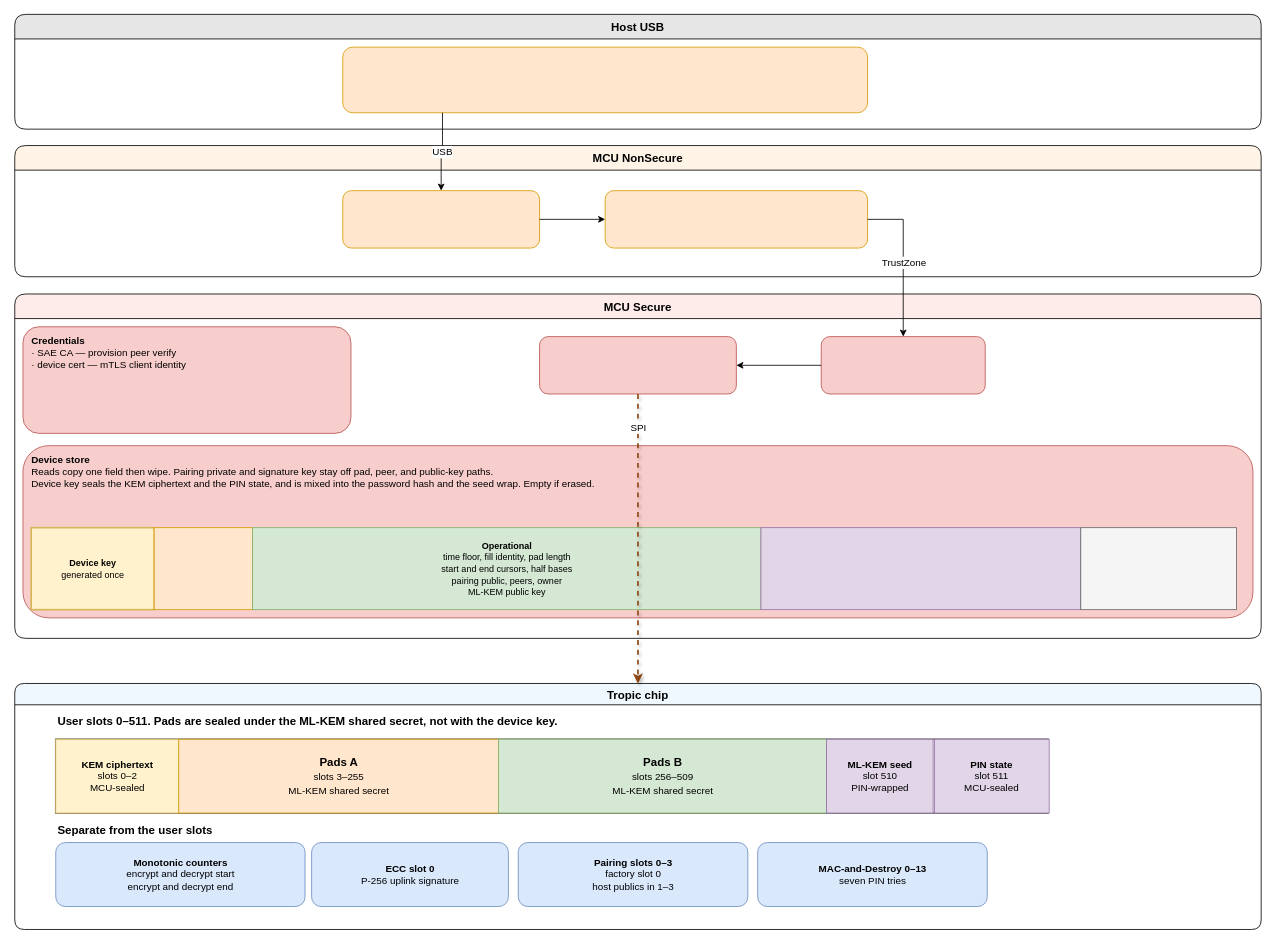
Some shapes in this 1275 by 944 pixel diagram are drawn without their labels. The centre of each missing label's shape, as x and y in pixels:
"Command parser, then TLS forward" goes at [736,219].
"Provision log append only, 8 fills fill, arm, pad length, ends" goes at [1158,568].
"Record header" goes at [203,568].
"Secrets password hash pairing private signature private key" goes at [920,568].
"TLS 1.3 client post-quantum KEM" goes at [637,365].
"TrustZone entry" goes at [902,365].
"USB serial" goes at [441,219].
"USB serial Commands, then TLS after PROVISION / ENCRYPT / DECRYPT / MANAGE" goes at [605,79].
